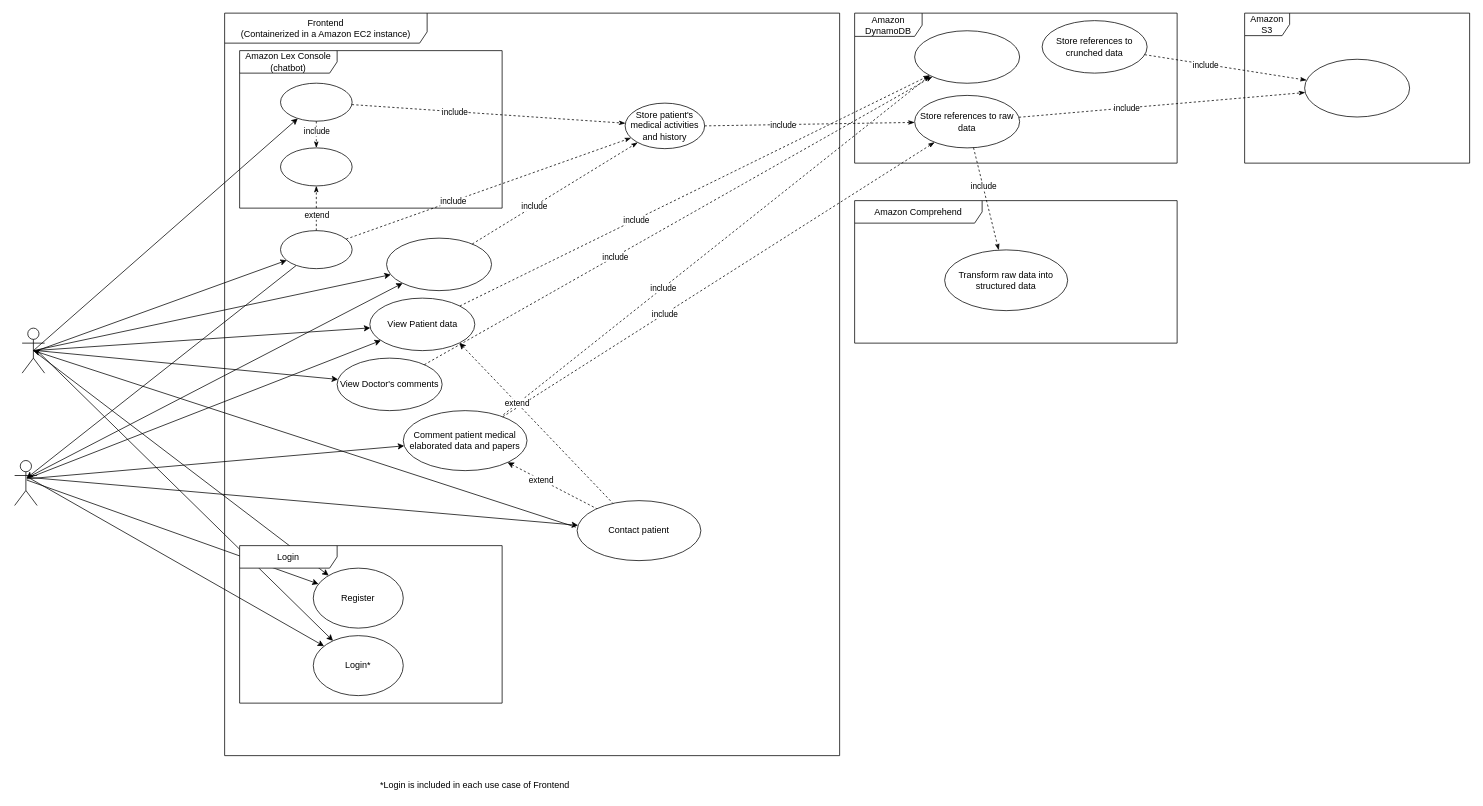
This 1483x806 diagram has some shape labels left out. The shapes that lost their labels are listed below. From the top down, each one's centre as x and y in pixels, then its label:
At (967,56): "Query stored data".
At (316,101): "Gathers patient's feedbacks".
At (1357,87): "Put data in permanent storage".
At (316,166): "View appropriate doctors".
At (316,249): "Talk with doctor".
At (439,264): "Upload medical papers".
At (33,350): "Patient".
At (25,483): "Doctor".
